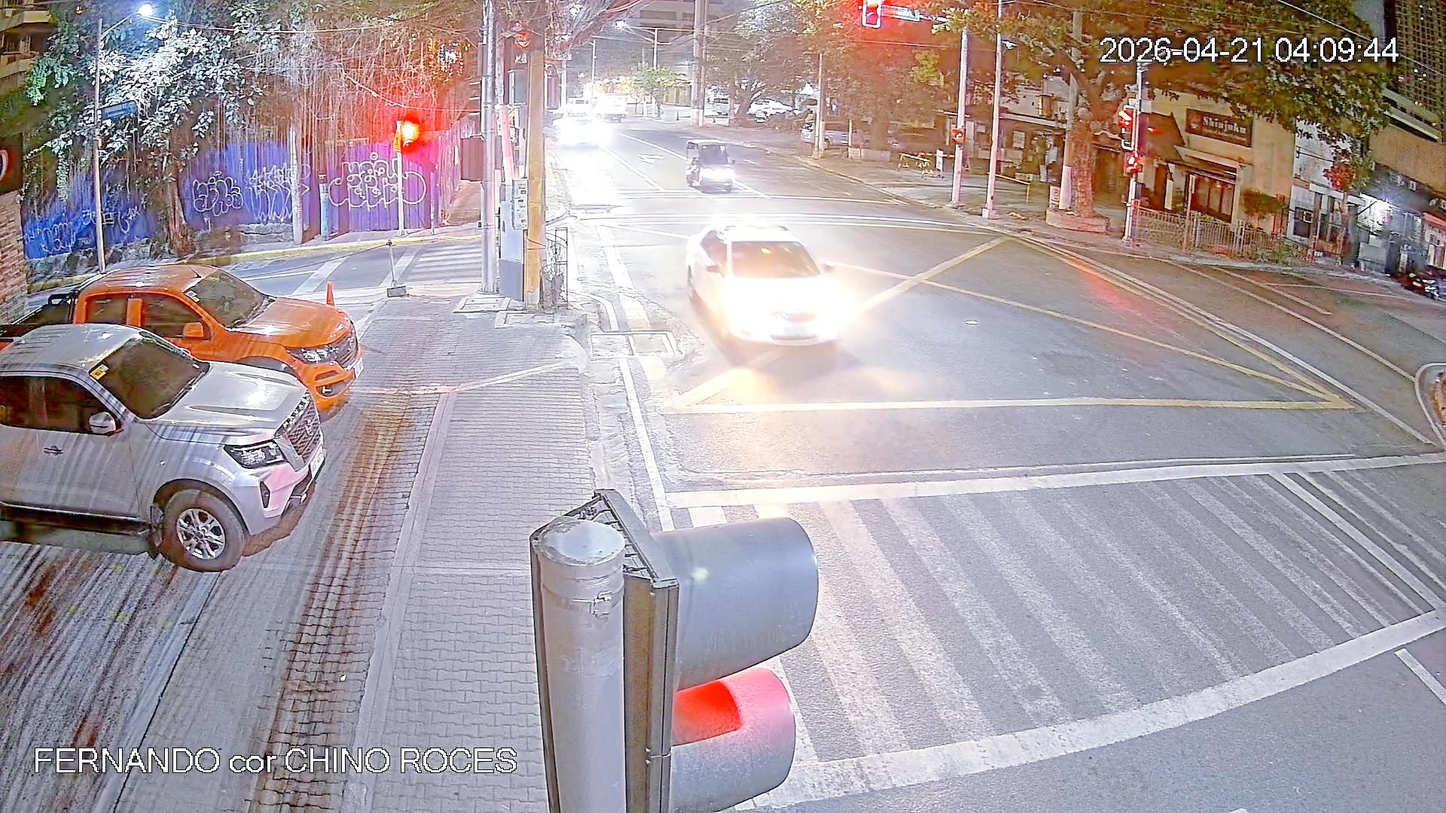Car: (0, 319, 322, 617), (62, 252, 369, 432), (673, 214, 865, 366), (803, 116, 859, 165), (708, 85, 734, 128)
